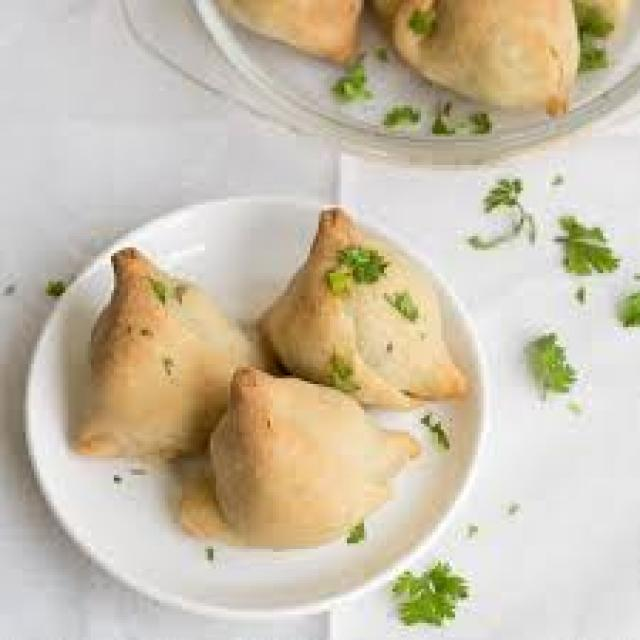SAMOSA: (256, 210, 469, 409), (74, 259, 279, 464), (179, 373, 413, 543)
